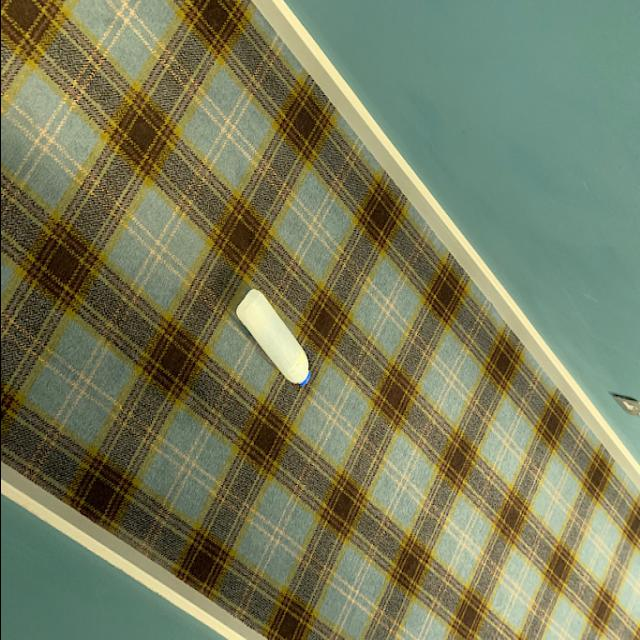litter: (232, 284, 308, 388)
